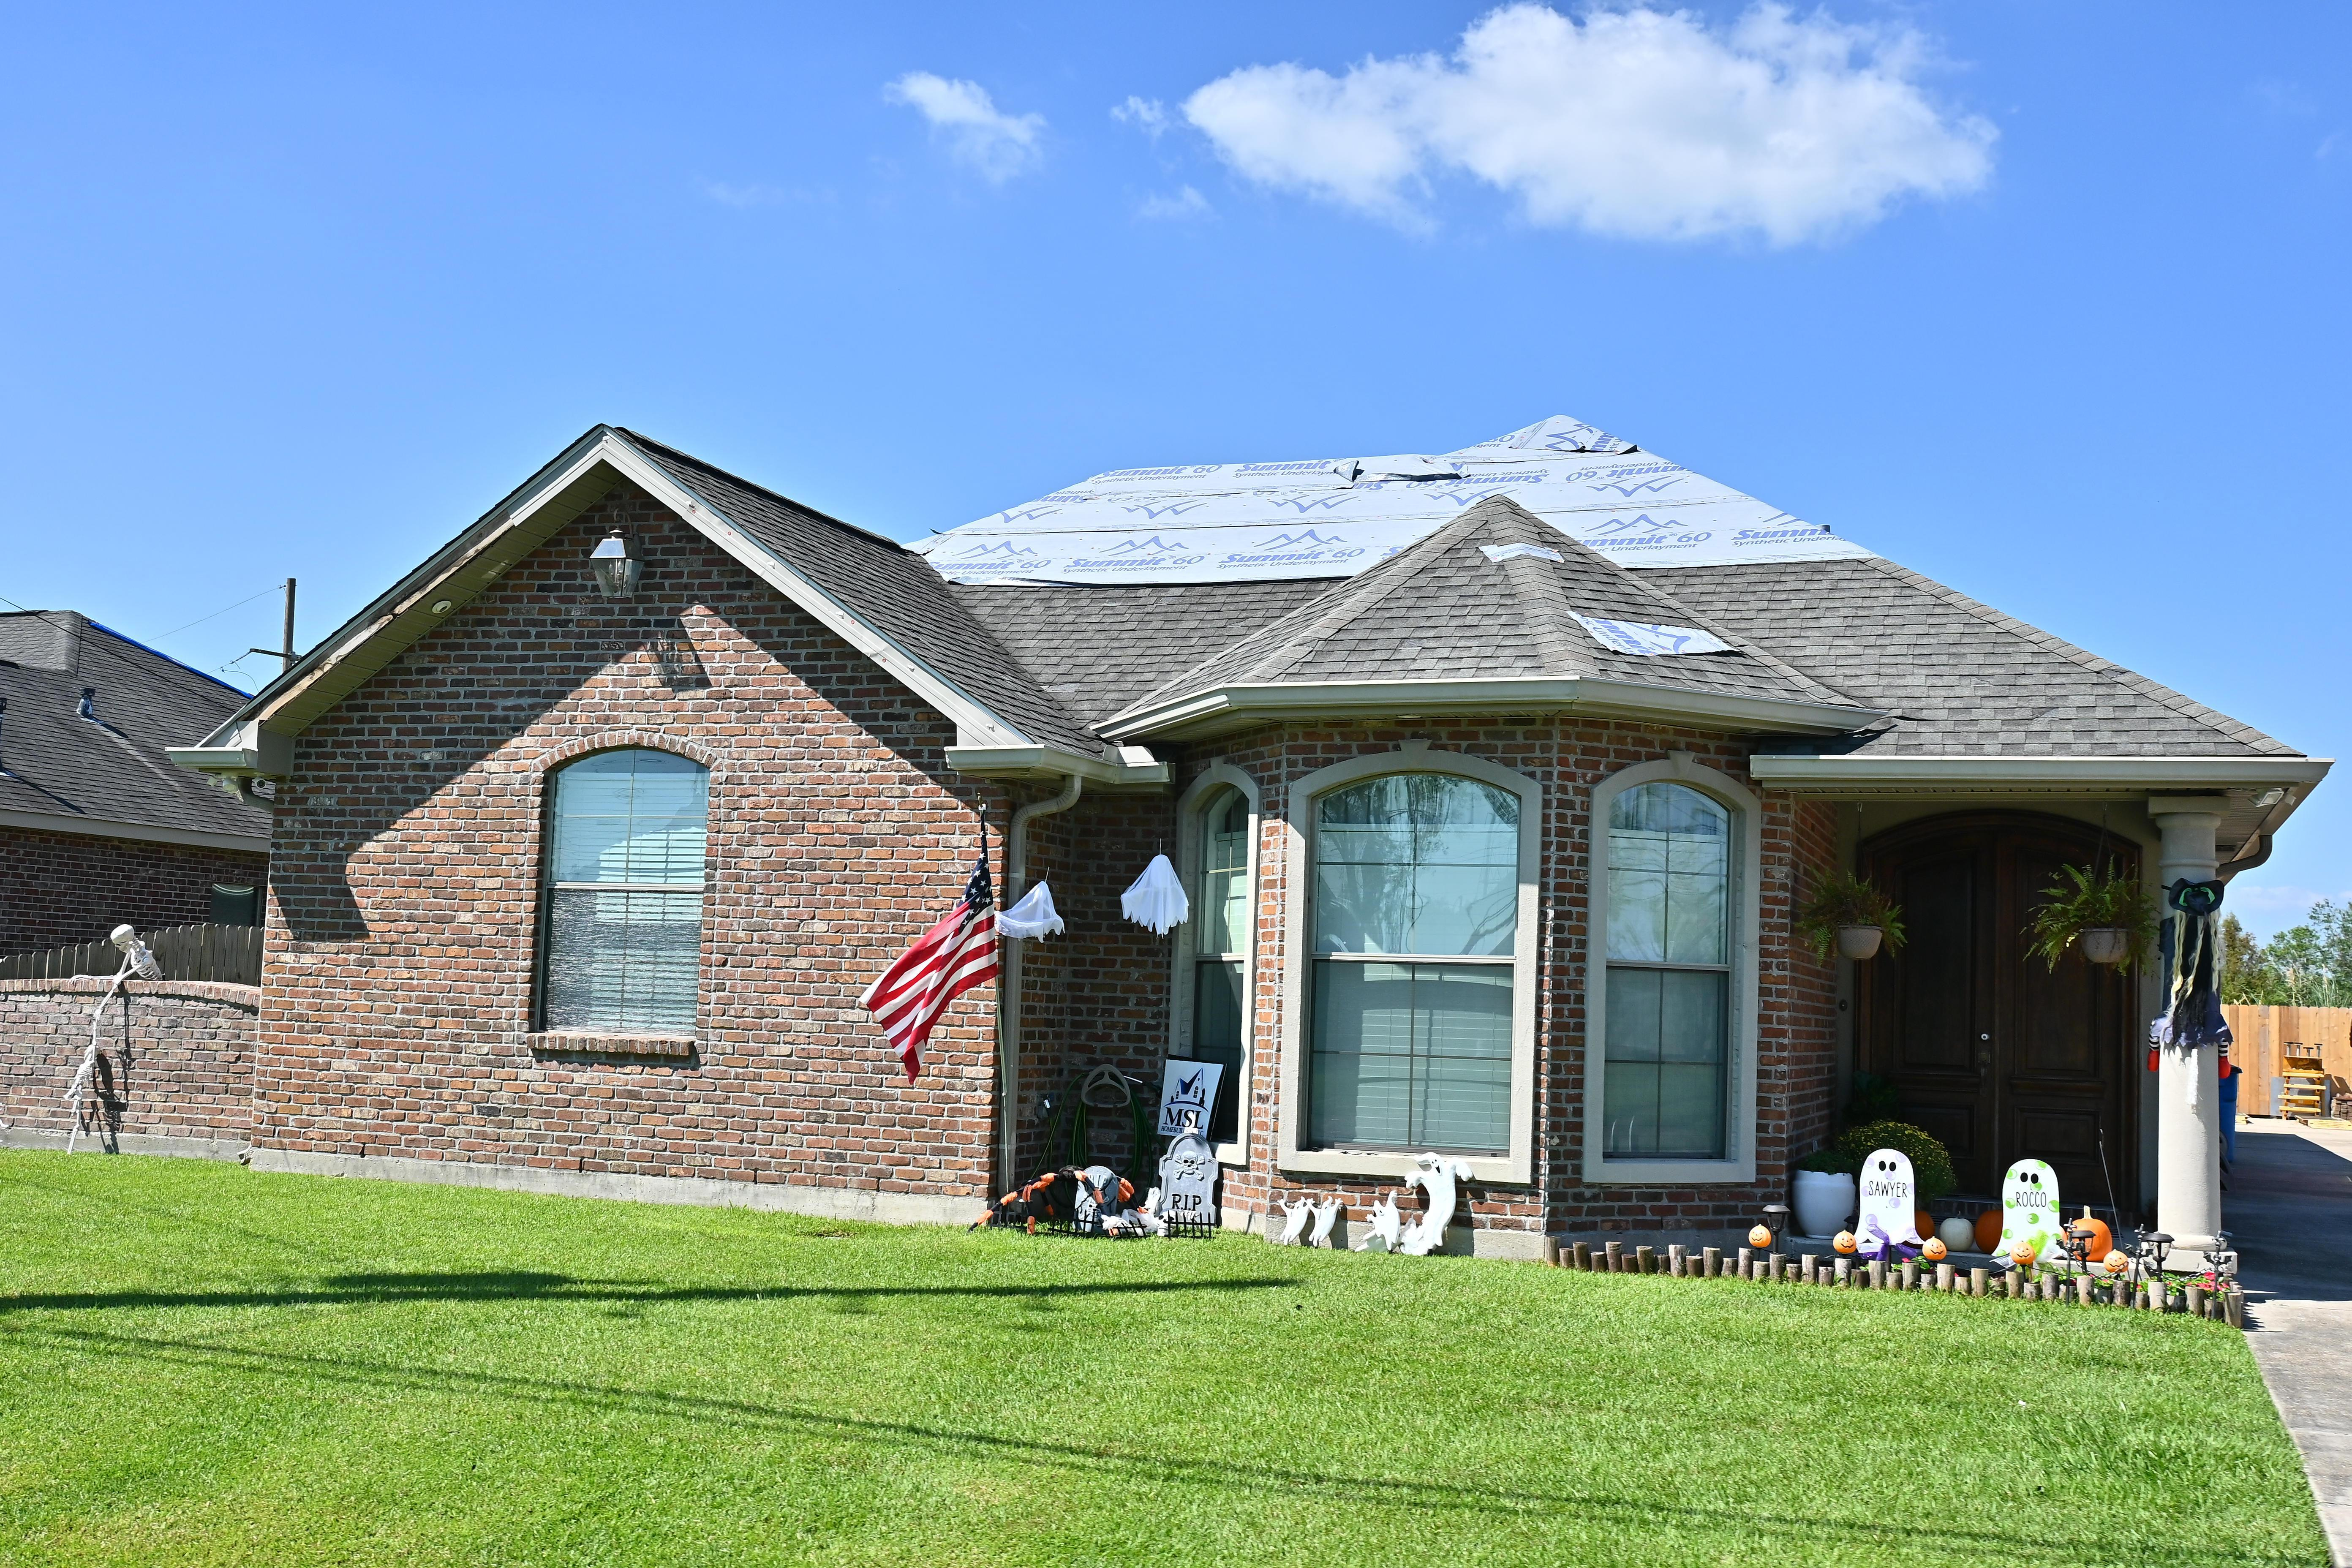minor: (154, 396, 2338, 1297)
